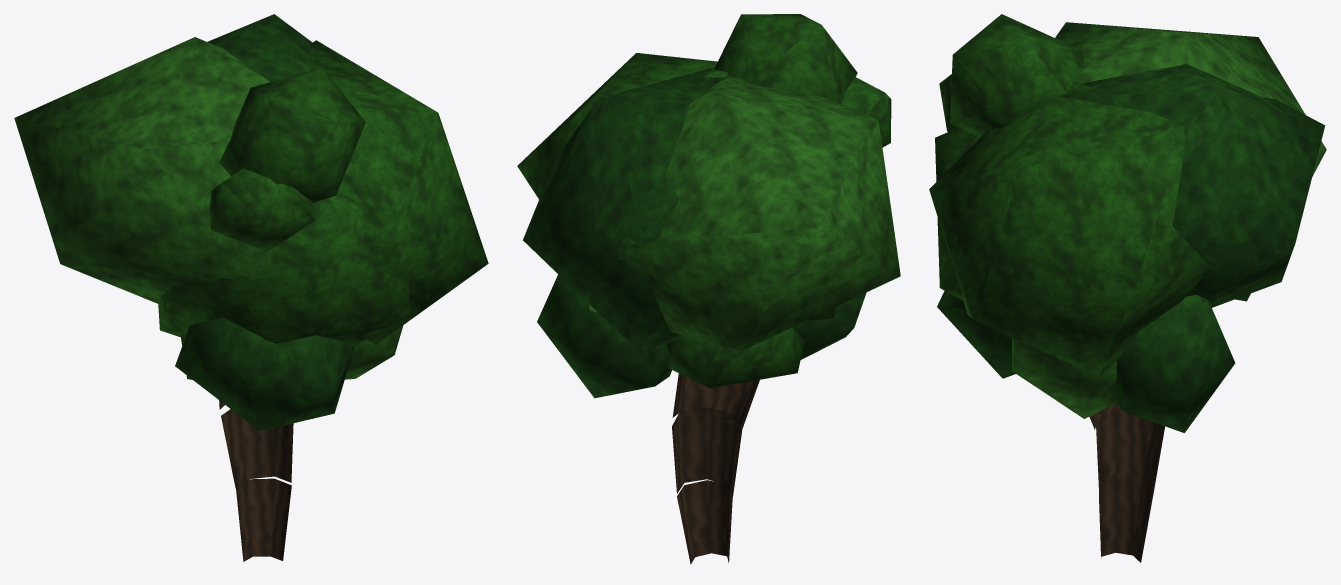
The model's file is broadleaf_m.glb.
The picture shows the model from 3 angles, left to right: view 1: azimuth 30°, elevation 25°; view 2: azimuth 150°, elevation 25°; view 3: azimuth 270°, elevation 25°; orthographic projection. The views are drawn at different scales.
Visible parts, largest first — view 1: broadleaf_m; view 2: broadleaf_m; view 3: broadleaf_m.
Boxes of the visible parts, x1,y1,x2,y2 form: broadleaf_m: [14, 14, 488, 561]; broadleaf_m: [517, 14, 900, 564]; broadleaf_m: [929, 14, 1326, 562].
Size of the model in its own units: 7.11 by 9.18 by 6.29.
Materials: 4 (4 with a texture image).
